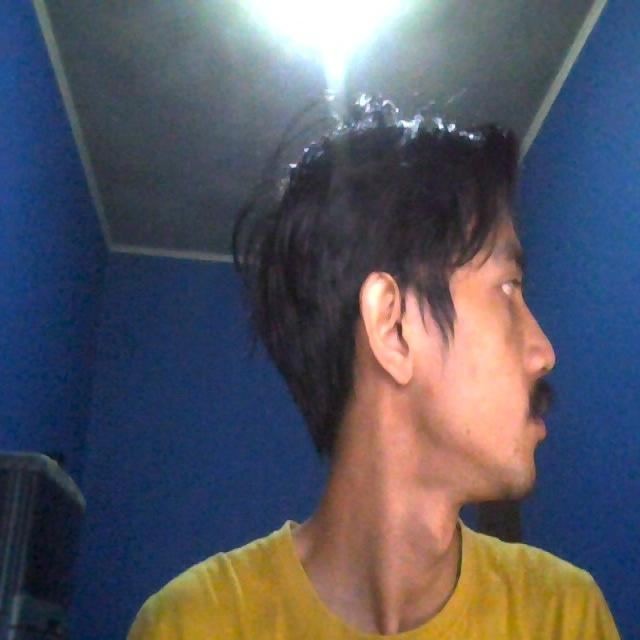melihat kekiri: (228, 105, 568, 535)
